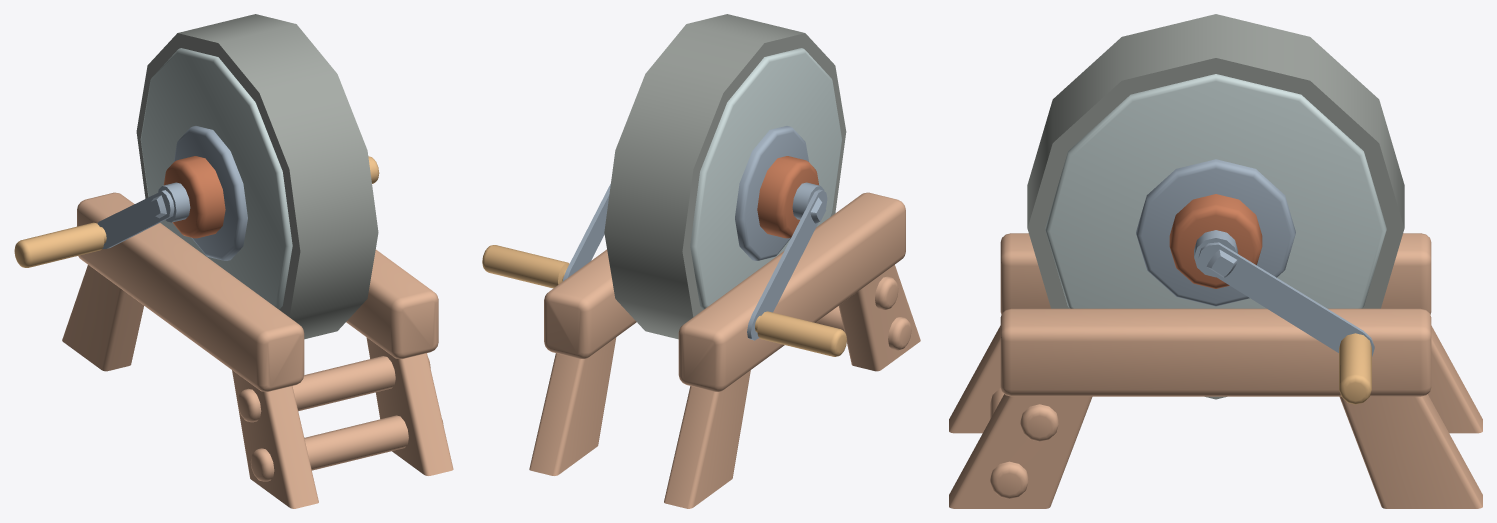
The model's file is grinder.fbx.
3 renders of one model, left to right at view 1: azimuth 30°, elevation 25°; view 2: azimuth 150°, elevation 25°; view 3: azimuth 270°, elevation 25°, orthographic. The views are drawn at different scales.
Visible parts, largest first — view 1: Circle.007; view 2: Circle.007; view 3: Circle.007.
Boxes of the visible parts, bbox=[...] form: Circle.007: bbox=[14, 14, 453, 508]; Circle.007: bbox=[482, 14, 920, 508]; Circle.007: bbox=[949, 14, 1482, 508].
Bounding box in the file's own units: 74.53 × 74.61 × 84.53.
1 material, 1 textured.
